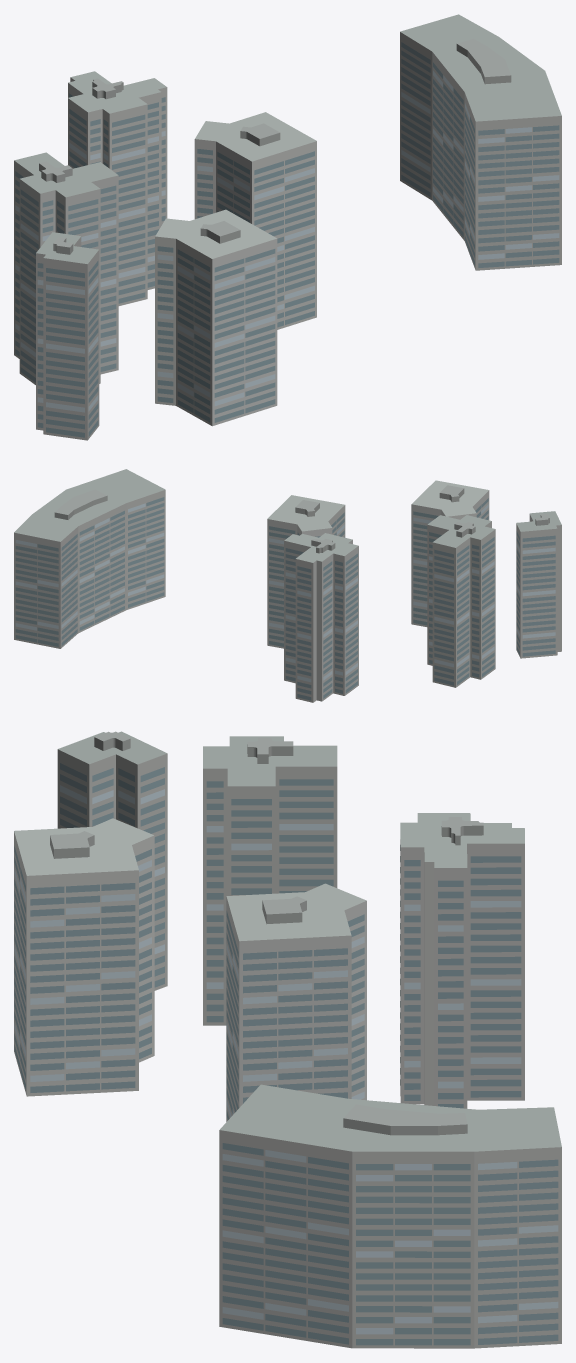
Rendered from apt-a10028001.glb.
3 views of the same model, one above another, from view 1: azimuth 30°, elevation 25°; view 2: azimuth 150°, elevation 25°; view 3: azimuth 270°, elevation 25° (orthographic). The views are drawn at different scales.
Parts seen in each view (by area): view 1: apt-a10028001; view 2: apt-a10028001; view 3: apt-a10028001.
Boxes of the visible parts, x1,y1,x2,y2 form: apt-a10028001: (14, 14, 561, 440); apt-a10028001: (14, 469, 561, 702); apt-a10028001: (14, 731, 561, 1348).
Size of the model in its own units: 204 by 66 by 123.
